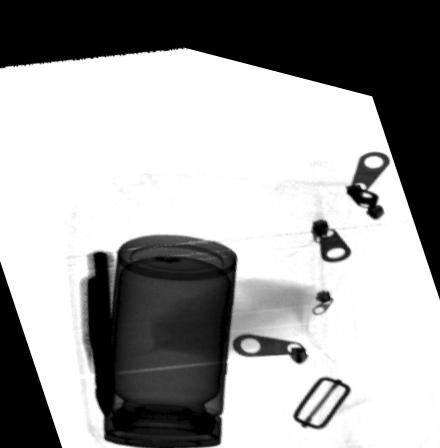Pliers: (79, 243, 115, 411)
